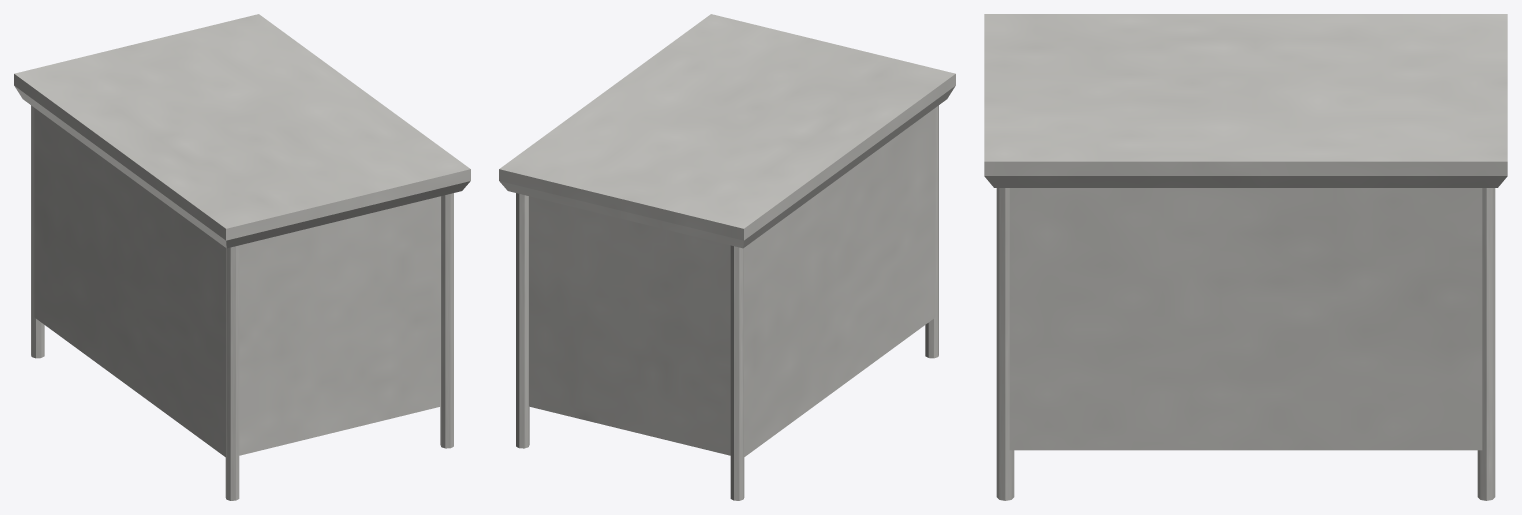
The model's file is cammercial_flat_cabinet.glb.
3 renders of one model, left to right at view 1: azimuth 30°, elevation 25°; view 2: azimuth 150°, elevation 25°; view 3: azimuth 270°, elevation 25°, orthographic. The views are drawn at different scales.
Visible parts, largest first — view 1: Cube; view 2: Cube; view 3: Cube.
Boxes of the visible parts, x1,y1,x2,y2 form: Cube: [14, 14, 470, 500]; Cube: [499, 14, 955, 500]; Cube: [984, 14, 1507, 500].
Bounding box in the file's own units: 4 × 4.36 × 6.
Materials: 1 (1 with a texture image).
